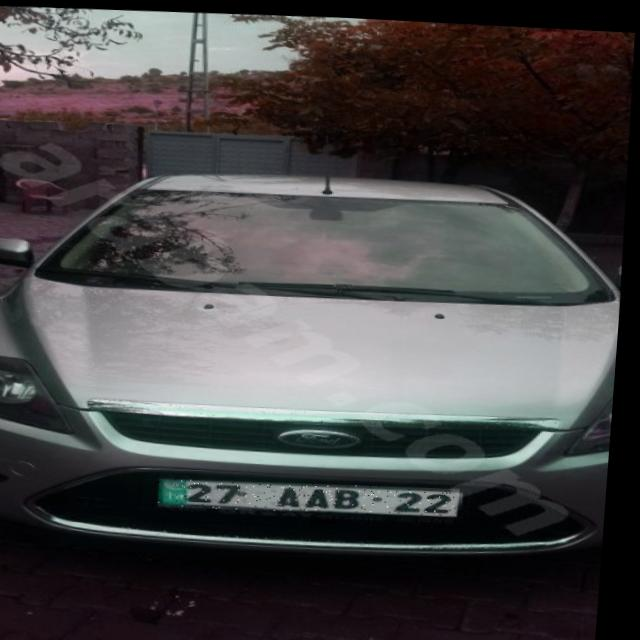license_plate: (166, 471, 470, 516)
